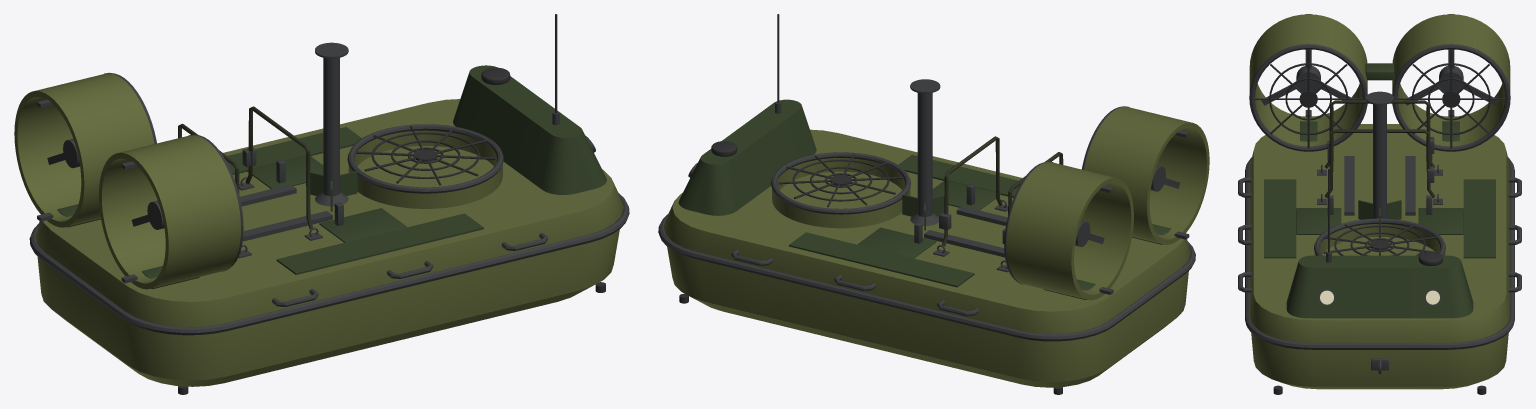
Rendered from hull.glb.
The picture shows the model from 3 angles, left to right: view 1: azimuth 30°, elevation 25°; view 2: azimuth 150°, elevation 25°; view 3: azimuth 270°, elevation 25°; orthographic projection. The views are drawn at different scales.
Parts seen in each view (by area): view 1: hull; view 2: hull; view 3: hull.
Part boxes in pixels (x1,y1,x2,y2): hull: (14,14,629,394); hull: (658,14,1209,394); hull: (1238,14,1521,394).
Bounding box in the file's own units: 2.43 × 1.2 × 1.39.
